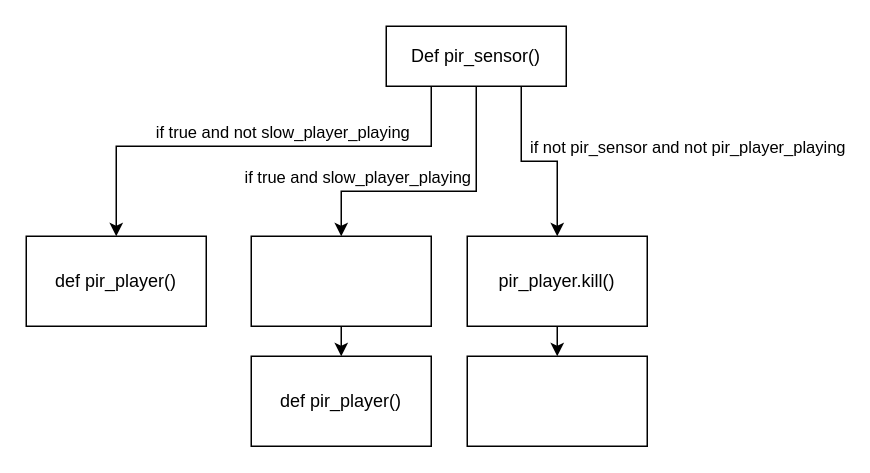
Image size: 870x473. Some labels were removed from this diagram. Each missing label, with the centre of its shape:
def slow_player(): the point at 556,400
slow_player.kill(): the point at 340,280
